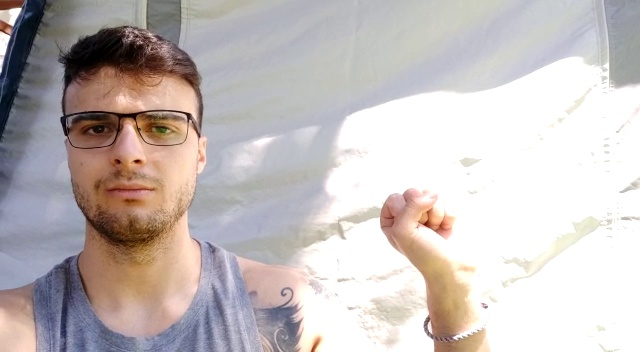Fist: (378, 186, 478, 277)
